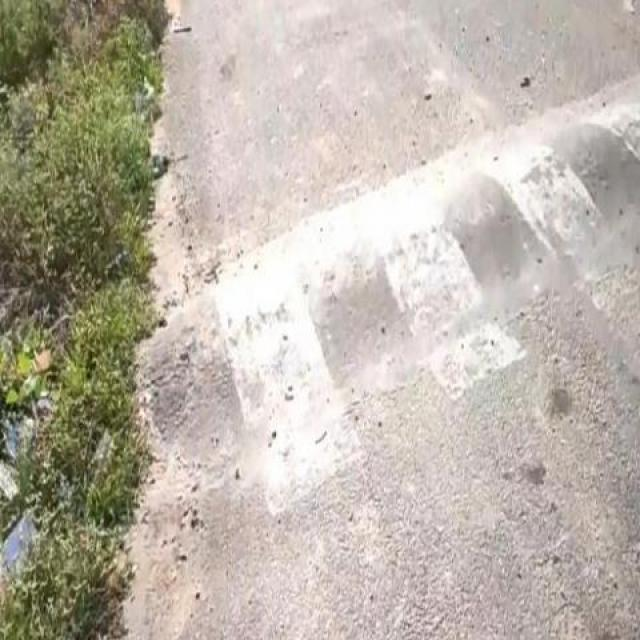Speed Bump: (144, 66, 639, 483)
